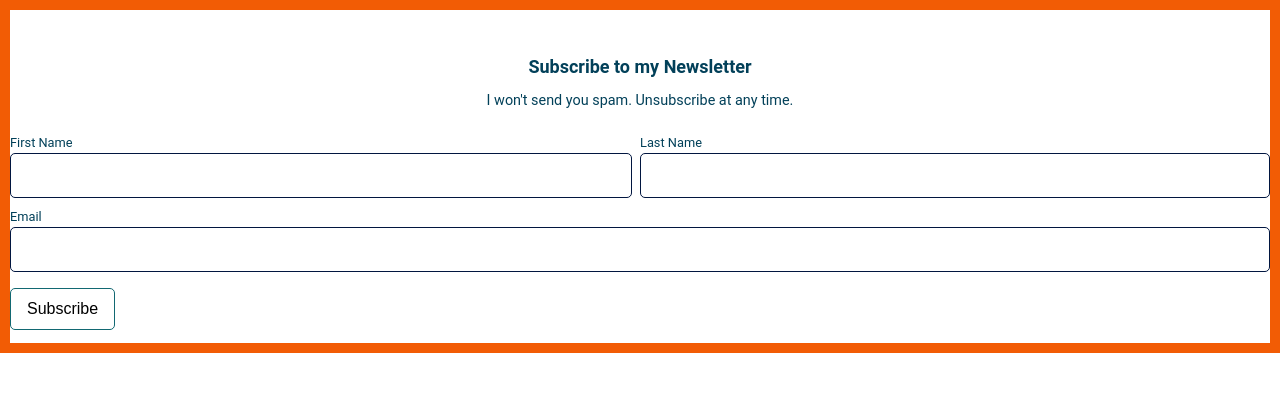
it: Newsletter › should display success message if api is ok
Type "bob" into the field with test id "firstName".
click(321, 176); type("bob")  # box [10, 153, 632, 198]
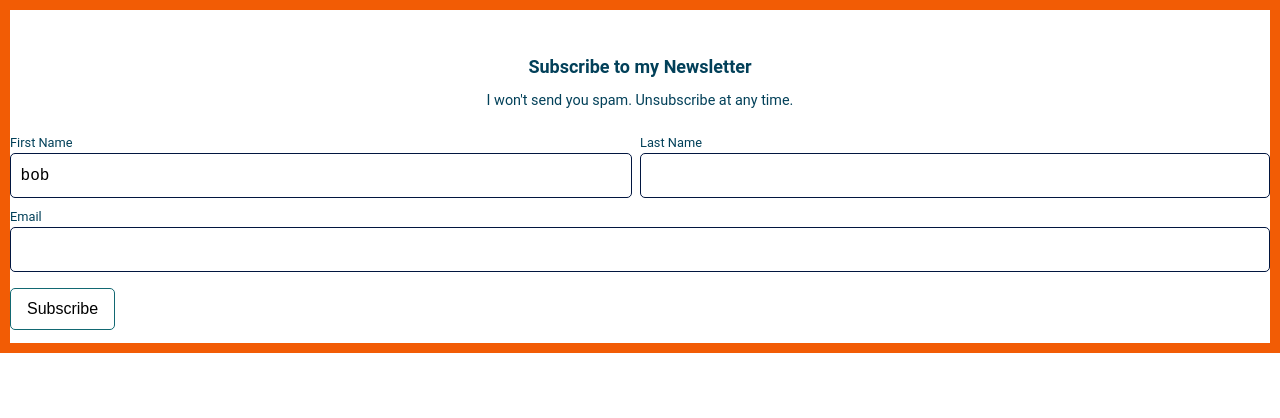
Type "john" into the field with test id "lastName".
click(955, 176); type("john")  # box [640, 153, 1270, 198]
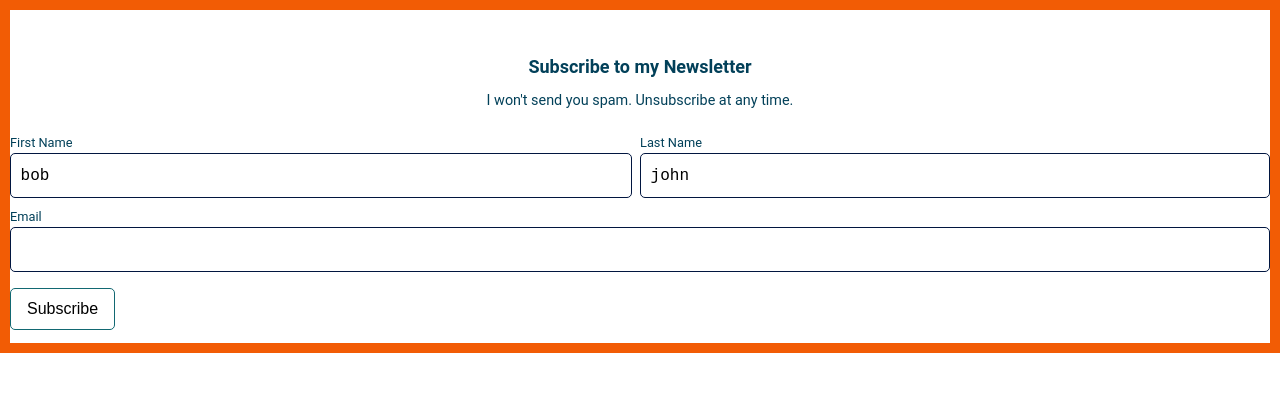
Type "bob@gmail.com" into the field with test id "email".
click(640, 250); type("bob@gmail.com")  # box [10, 227, 1270, 272]
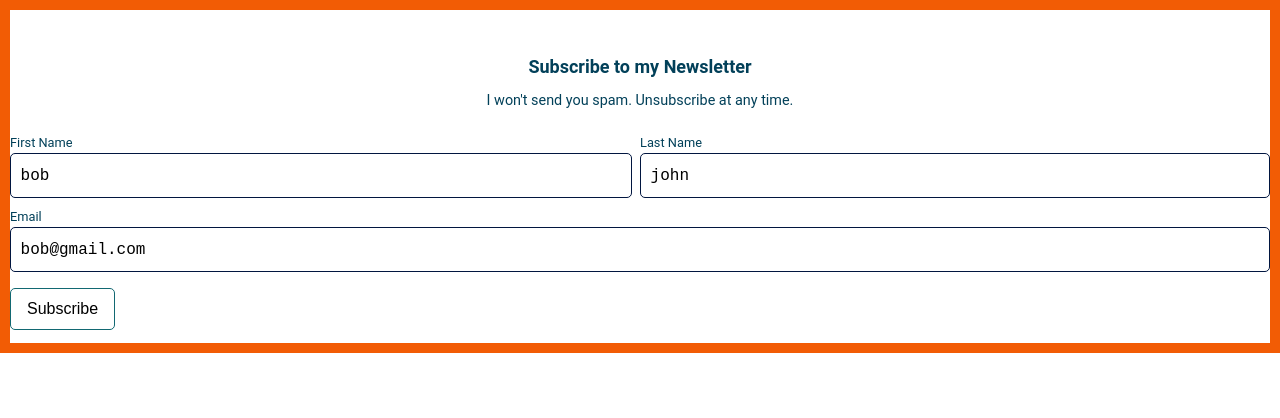
Click the button with test id "submit".
click(63, 309)  # box [10, 288, 115, 330]
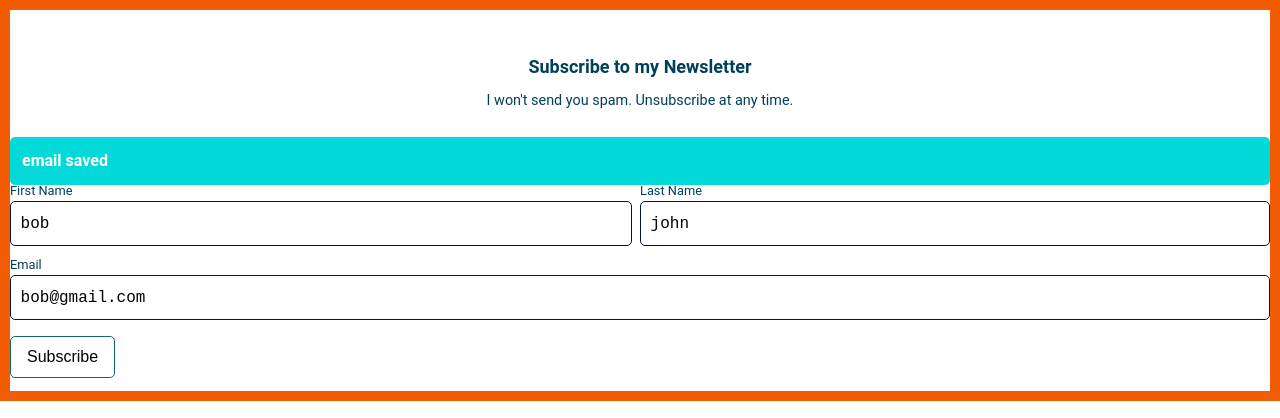
Check: the button with test id "submit" is shown, box [10, 336, 115, 378]
Check: the text "email saved" is shown, box [10, 137, 1270, 185]
